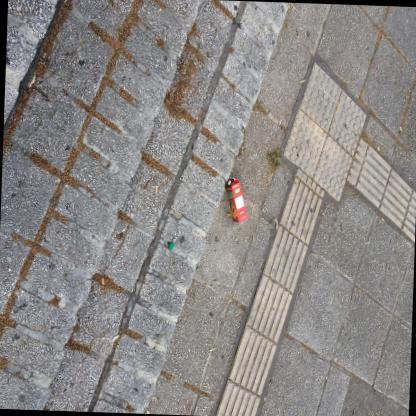Paper: (226, 178, 247, 223), (154, 185, 157, 194), (100, 278, 103, 285), (381, 217, 383, 222)
Plastic: (167, 242, 173, 250)
